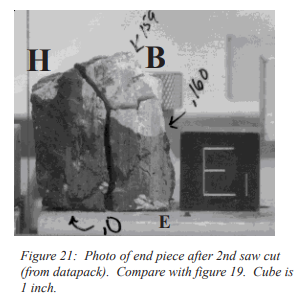Breccia: (33, 78, 174, 209), (78, 49, 140, 197)
